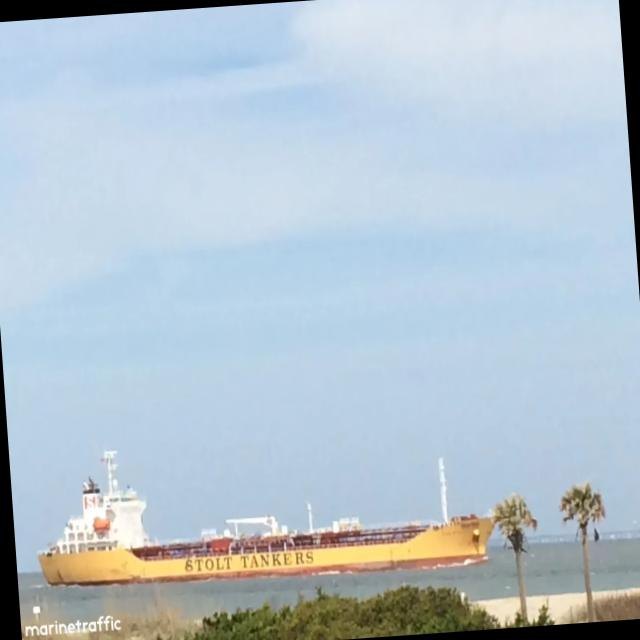Tanker: (38, 450, 493, 585)
